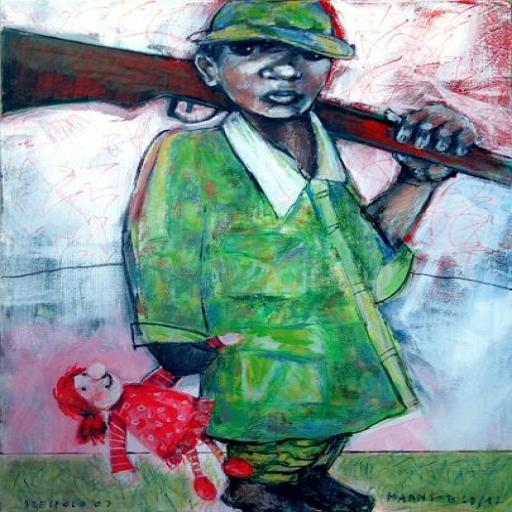person: (128, 4, 470, 512), (54, 362, 254, 500)
